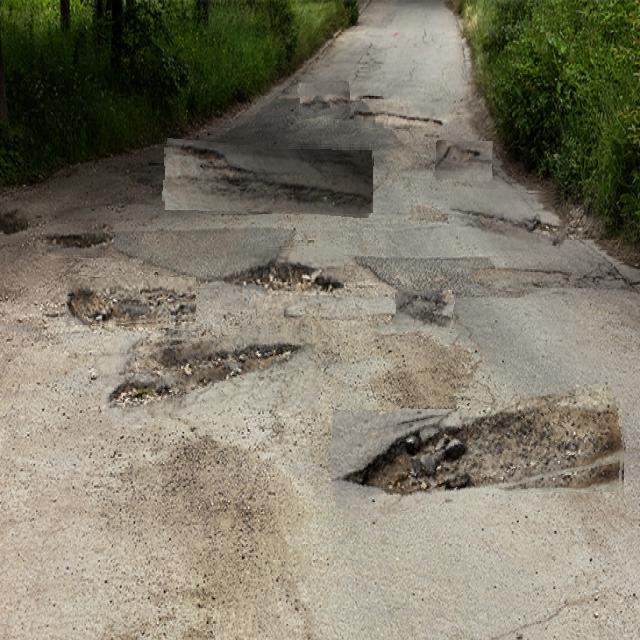Pothole: (331, 396, 627, 509), (101, 325, 322, 418), (163, 143, 373, 214), (222, 246, 344, 310), (449, 189, 567, 251), (66, 277, 196, 327), (393, 290, 454, 335), (354, 104, 449, 130), (435, 141, 493, 181), (46, 224, 114, 258), (298, 81, 350, 118), (1, 202, 28, 246)
